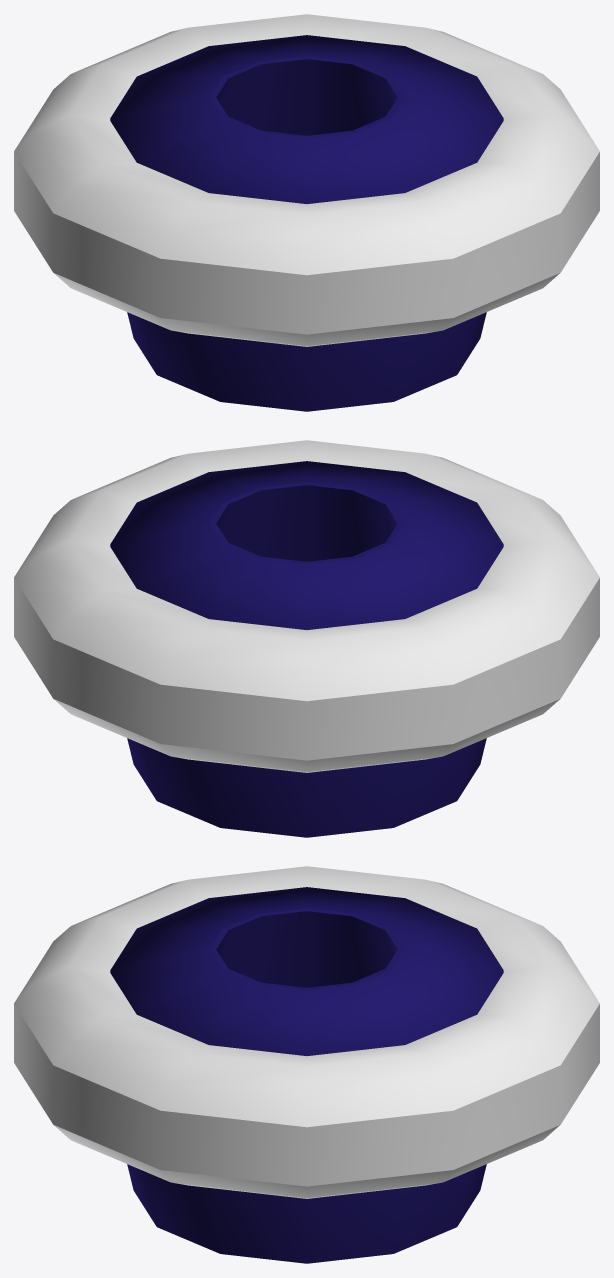
File: prp_jet_outer_test.fbx
The picture shows the model from 3 angles, top to bottom: view 1: azimuth 30°, elevation 25°; view 2: azimuth 150°, elevation 25°; view 3: azimuth 270°, elevation 25°; orthographic projection.
Visible parts, largest first — view 1: pPipe1, pPipe2; view 2: pPipe1, pPipe2; view 3: pPipe1, pPipe2.
Boxes of the visible parts, left/top/right/bottom form: pPipe1: left=14, top=14, right=599, bottom=346; pPipe2: left=110, top=35, right=503, bottom=411; pPipe1: left=14, top=440, right=599, bottom=772; pPipe2: left=110, top=461, right=503, bottom=837; pPipe1: left=14, top=866, right=599, bottom=1198; pPipe2: left=110, top=887, right=503, bottom=1263.
Bounding box in the file's own units: 4.47 × 2.03 × 4.47.
